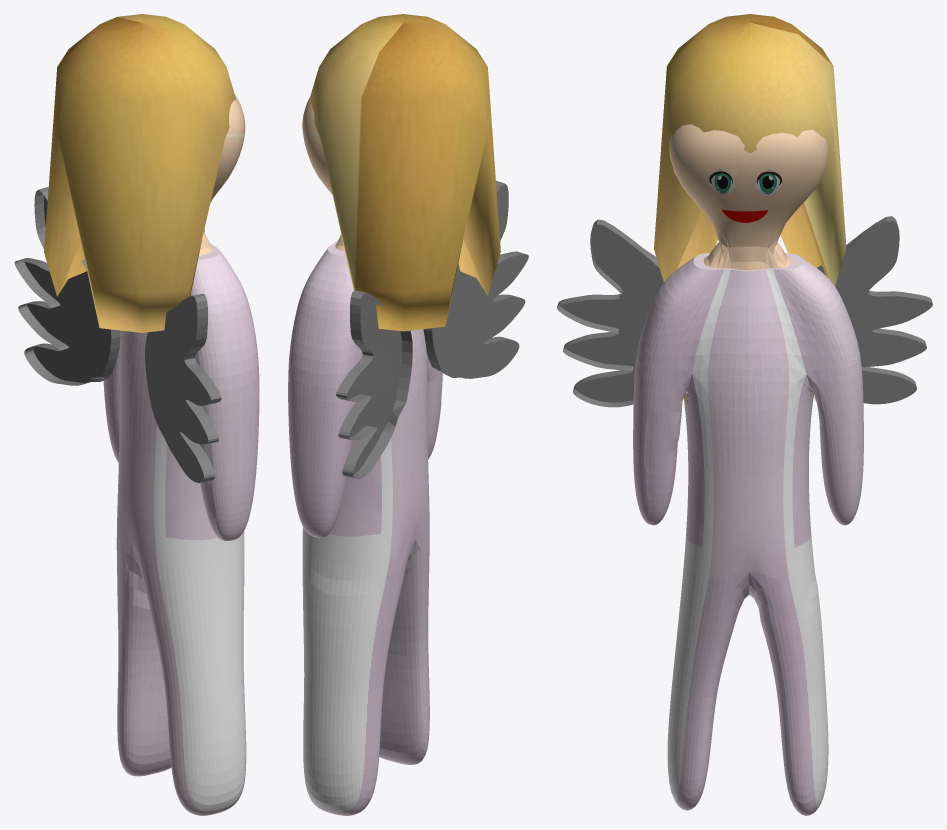
Rendered from 小精靈.fbx.
The picture shows the model from 3 angles, left to right: view 1: azimuth 30°, elevation 25°; view 2: azimuth 150°, elevation 25°; view 3: azimuth 270°, elevation 25°; orthographic projection.
Visible parts, largest first — view 1: Box029, Sphere001, Line001, Line002, Box025; view 2: Box029, Sphere001, Line002, Line001, Box025; view 3: Box029, Sphere001, Box025, Line001, Line002.
Boxes of the visible parts, box(x1,y1,x2,y2) form: Box029: box(103, 242, 259, 815); Sphere001: box(44, 14, 235, 332); Line001: box(145, 293, 221, 482); Line002: box(14, 187, 120, 385); Box025: box(119, 95, 245, 348); Box029: box(288, 240, 442, 815); Sphere001: box(308, 14, 500, 331); Line002: box(336, 290, 412, 478); Line001: box(423, 180, 528, 378); Box025: box(302, 97, 344, 251); Box029: box(633, 253, 863, 815); Sphere001: box(654, 14, 846, 286); Box025: box(669, 124, 828, 408); Line001: box(557, 219, 663, 407); Line002: box(817, 216, 932, 404).
Bounding box in the file's own units: 19.16 × 81.46 × 36.09.
6 materials, 5 textured.
